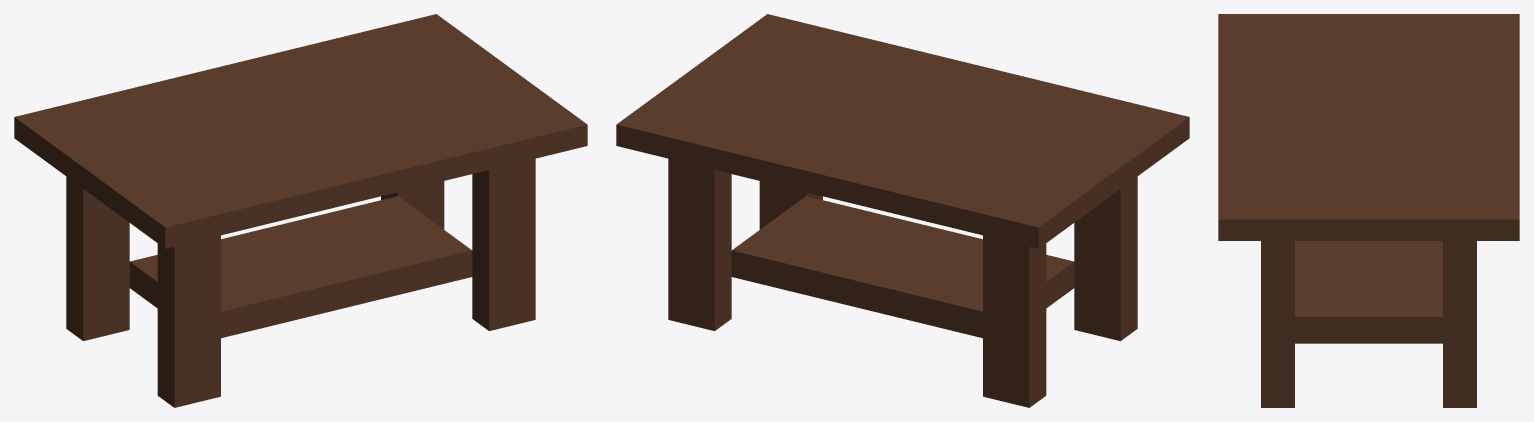
File: 26_bannho.fbx
3 renders of one model, left to right at view 1: azimuth 30°, elevation 25°; view 2: azimuth 150°, elevation 25°; view 3: azimuth 270°, elevation 25°, orthographic.
Visible parts, largest first — view 1: 26_bannho; view 2: 26_bannho; view 3: 26_bannho.
Part boxes in pixels (left/top/right/bottom): 26_bannho: left=14, top=14, right=587, bottom=407; 26_bannho: left=616, top=14, right=1189, bottom=407; 26_bannho: left=1218, top=14, right=1519, bottom=407.
Bounding box in the file's own units: 137 × 62.99 × 84.74.
